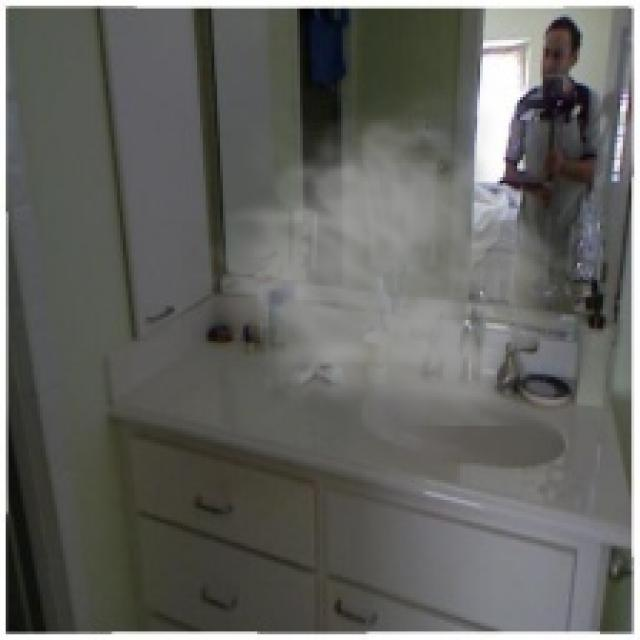smoke: (194, 80, 592, 426)
